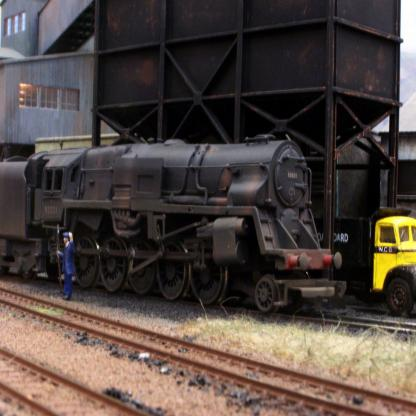Truck: (313, 213, 416, 319)
